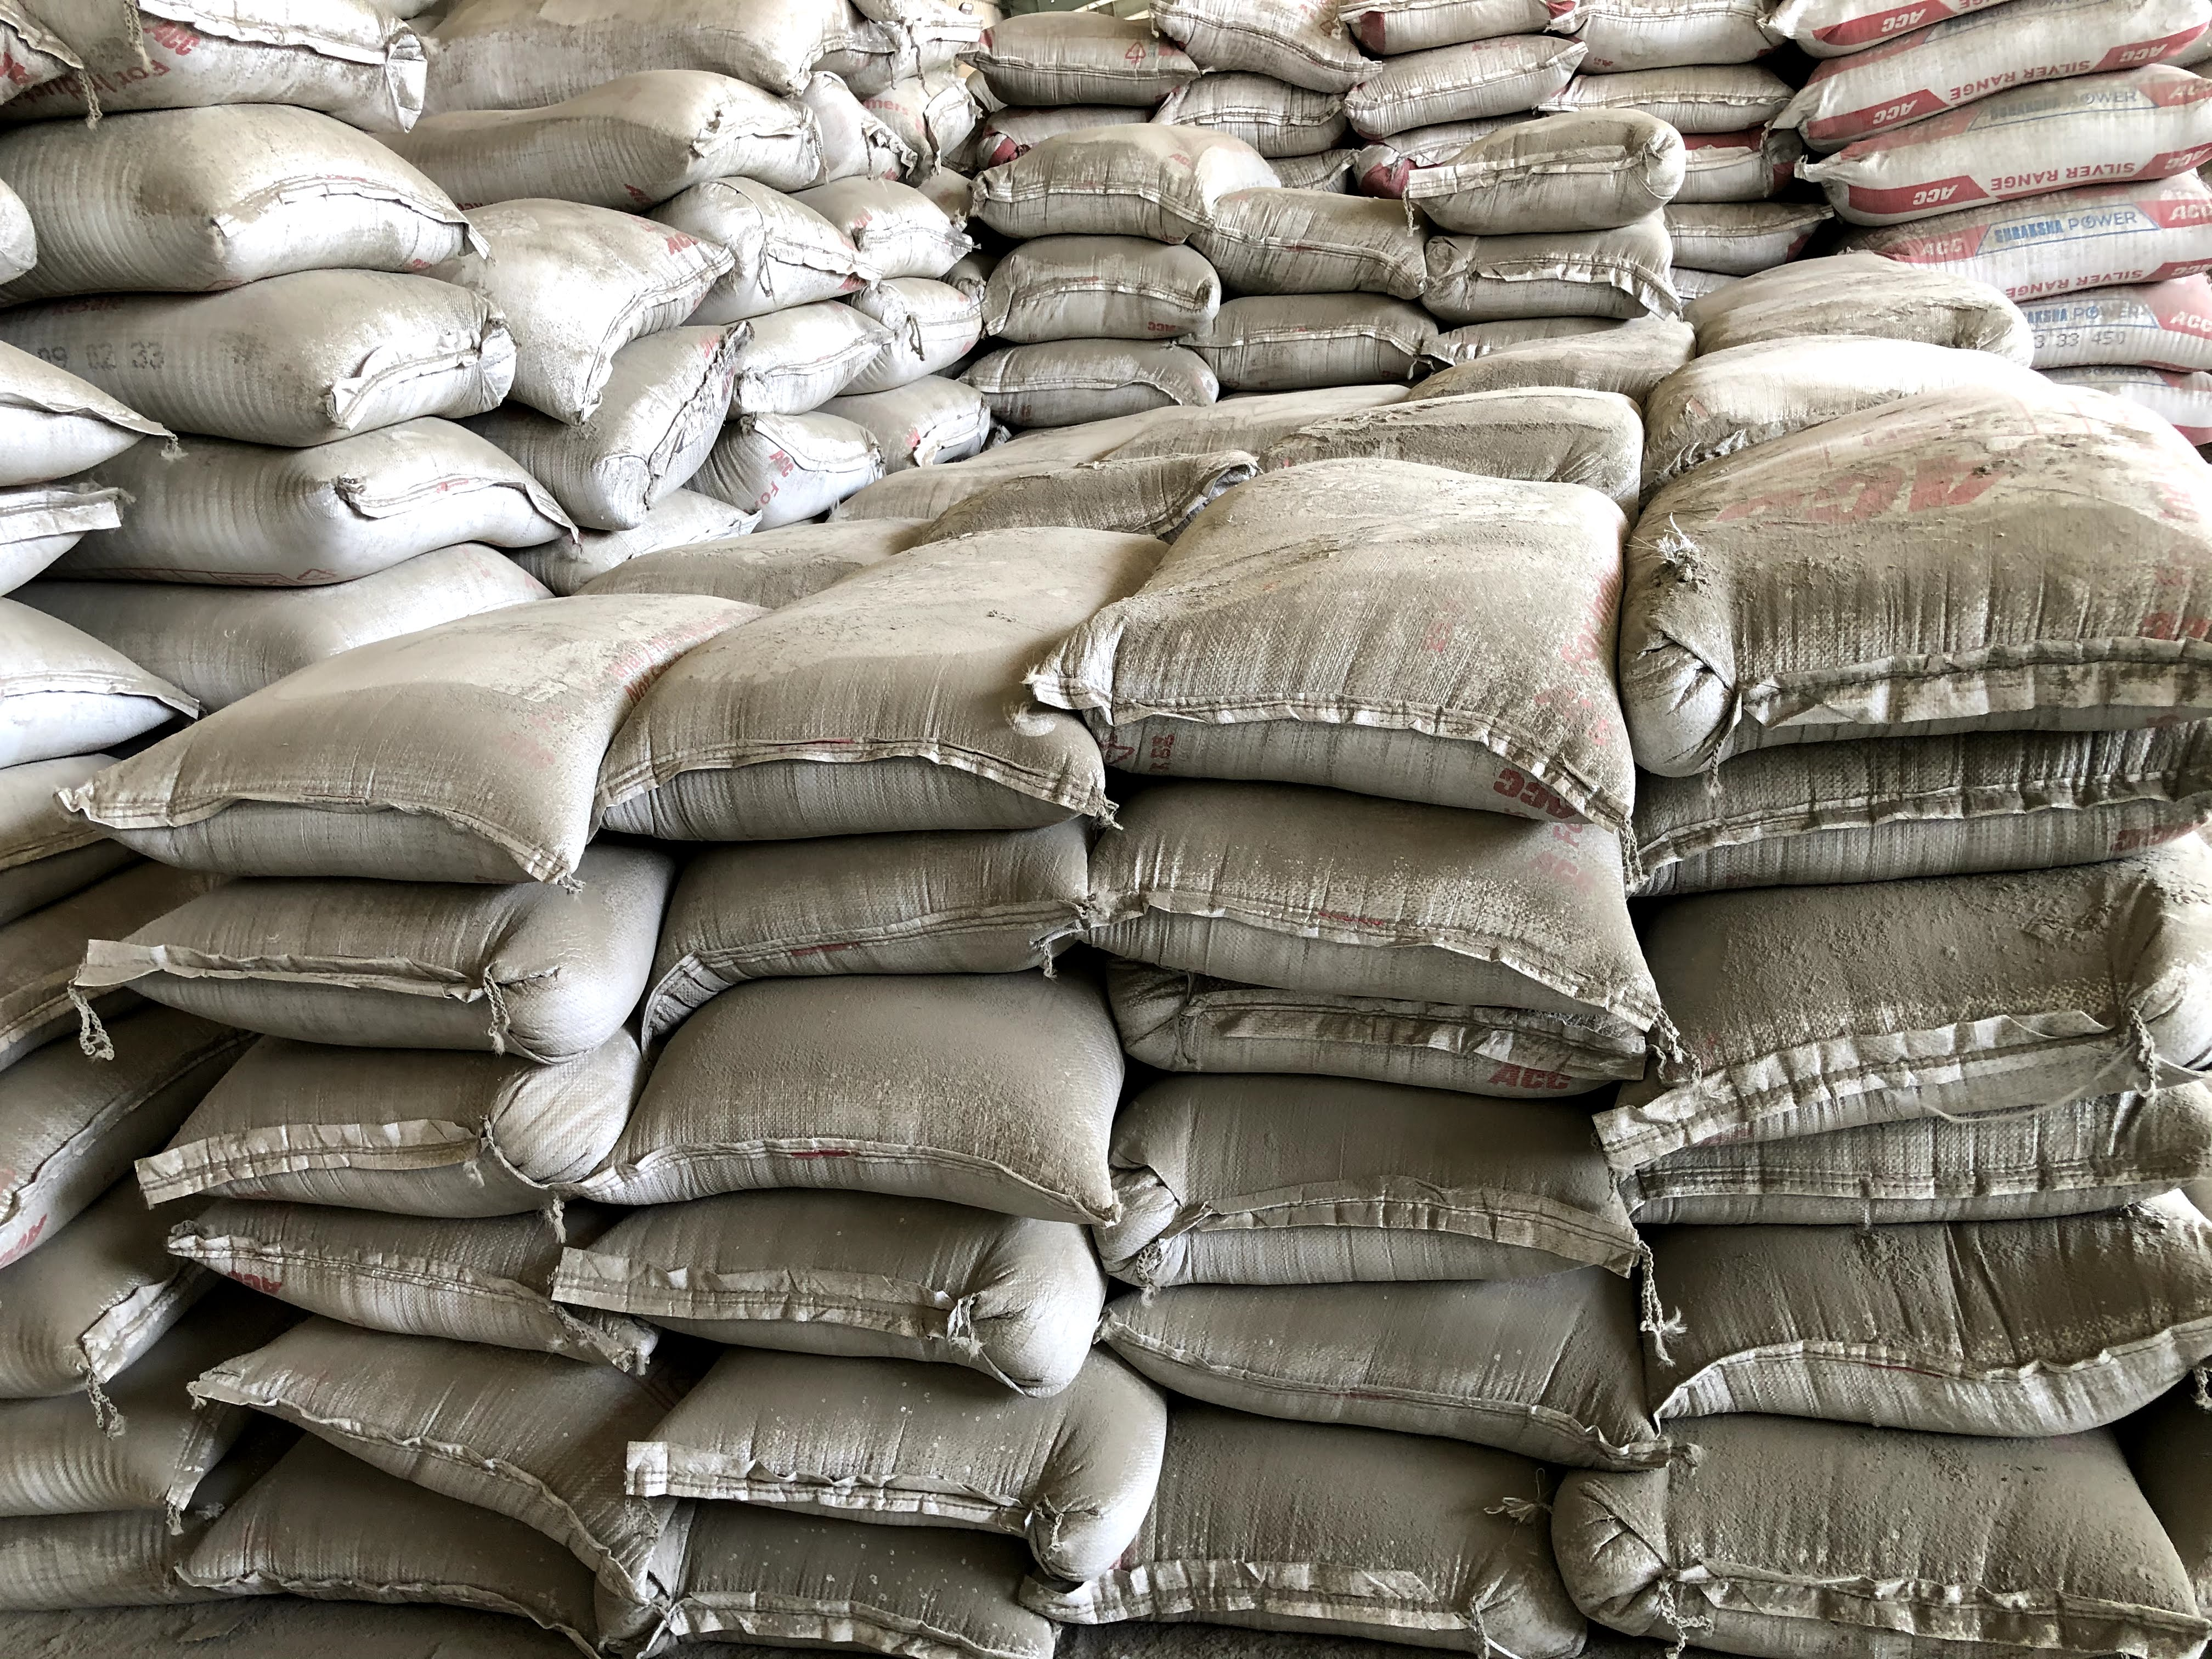cement bag: (1057, 612, 1648, 864), (1630, 1420, 2193, 1650), (583, 631, 1090, 866), (622, 1347, 1157, 1568), (101, 680, 583, 922), (1134, 1286, 1681, 1478), (1648, 885, 2179, 1082), (1689, 537, 2202, 737), (632, 990, 1069, 1204), (75, 1058, 585, 1237), (1639, 1239, 2198, 1392), (1089, 1124, 1580, 1297), (1689, 737, 2179, 885), (1113, 1478, 1681, 1601), (204, 1316, 514, 1541), (75, 922, 583, 1058), (603, 1215, 1052, 1366), (1123, 985, 1580, 1124), (632, 866, 1090, 990), (1113, 864, 1648, 962), (1648, 1082, 2202, 1176), (160, 1237, 585, 1309)
